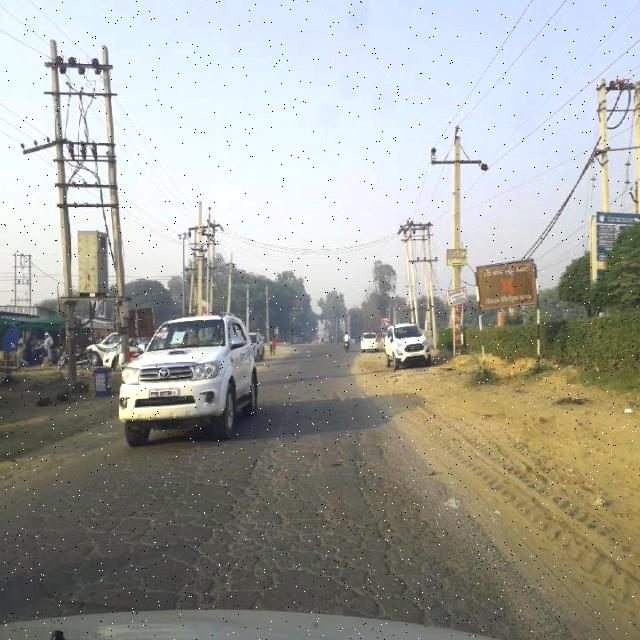D20: (1, 431, 528, 616)
